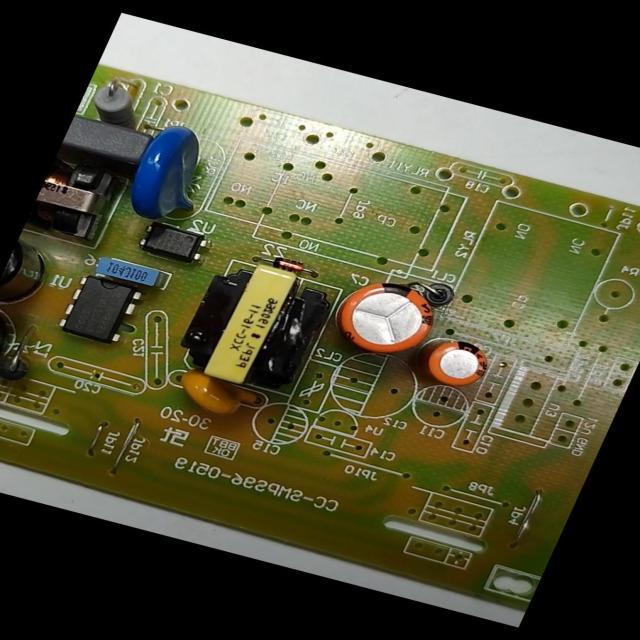Cap1: (314, 266, 450, 368)
Cap2: (406, 328, 502, 398)
Cap3: (0, 228, 69, 316)
Cap4: (0, 304, 32, 387)
MOSFET: (51, 270, 149, 350)
Mov: (109, 112, 234, 230)
Resistor: (77, 69, 162, 135)
Transformer: (24, 154, 130, 246)
